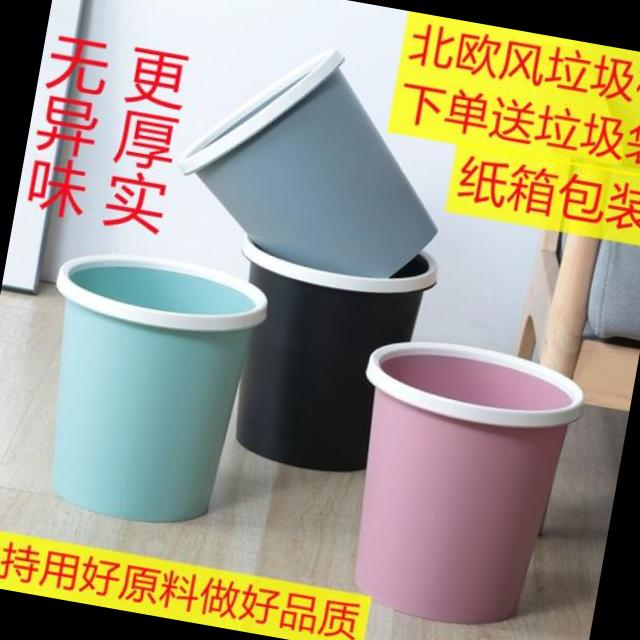dustbin: (147, 10, 474, 302), (321, 324, 597, 640), (14, 236, 280, 544), (186, 217, 457, 492)
